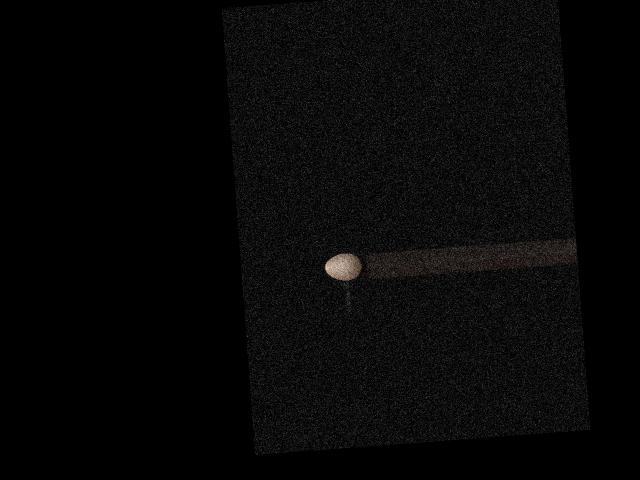egg: (323, 251, 363, 281)
